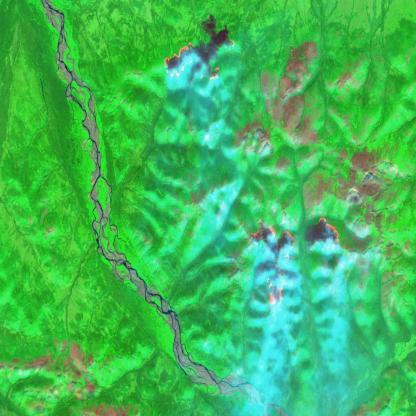fire: (249, 211, 345, 311), (162, 32, 240, 86)
